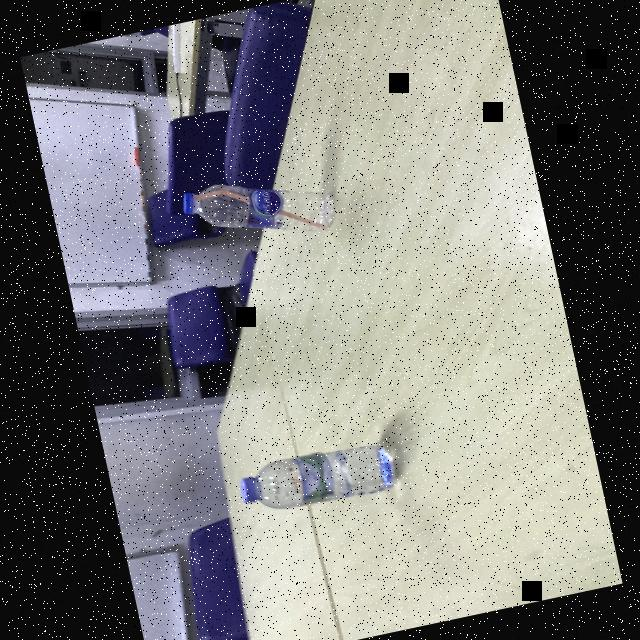plastic_bottle: (175, 160, 338, 258), (234, 438, 398, 520)
plastic_bottle_cap: (236, 472, 262, 507), (176, 190, 200, 218)
straw: (190, 165, 334, 260)
